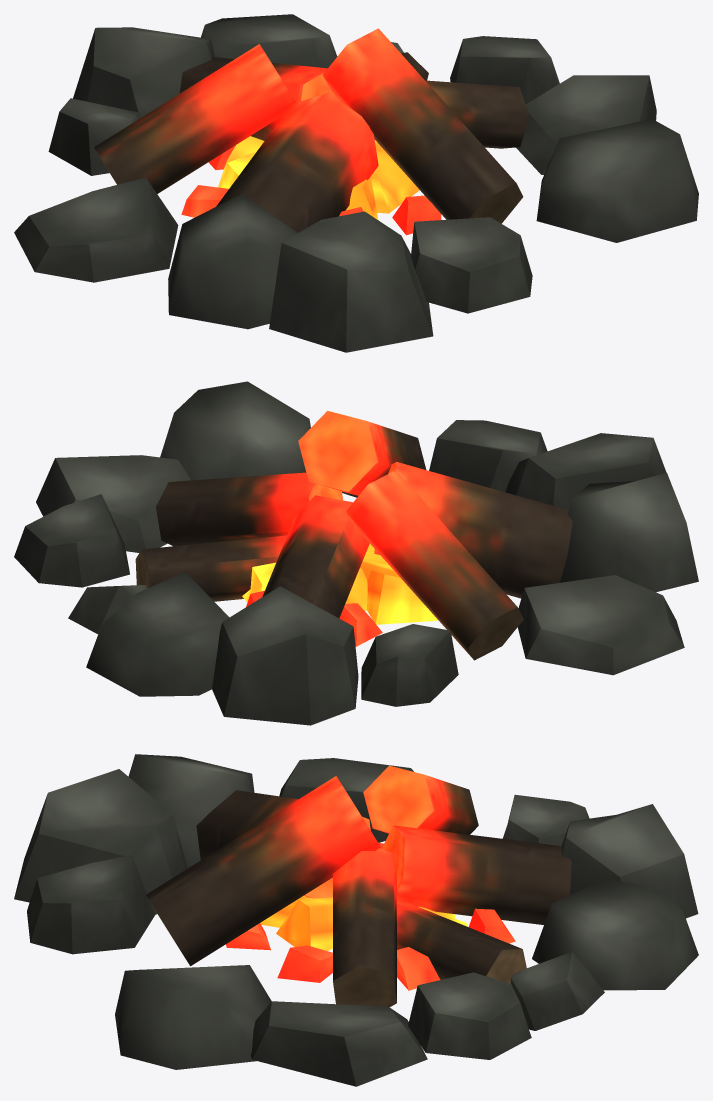
The model's file is Campfire.fbx.
3 views of the same model, one above another, from view 1: azimuth 30°, elevation 25°; view 2: azimuth 150°, elevation 25°; view 3: azimuth 270°, elevation 25° (orthographic).
Visible parts, largest first — view 1: Campfire; view 2: Campfire; view 3: Campfire.
Part boxes in pixels (x1,y1,x2,y2): Campfire: (14, 14, 698, 352); Campfire: (14, 381, 698, 725); Campfire: (14, 754, 698, 1086).
Size of the model in its own units: 218 by 61.63 by 201.
Materials: 1 (1 with a texture image).
